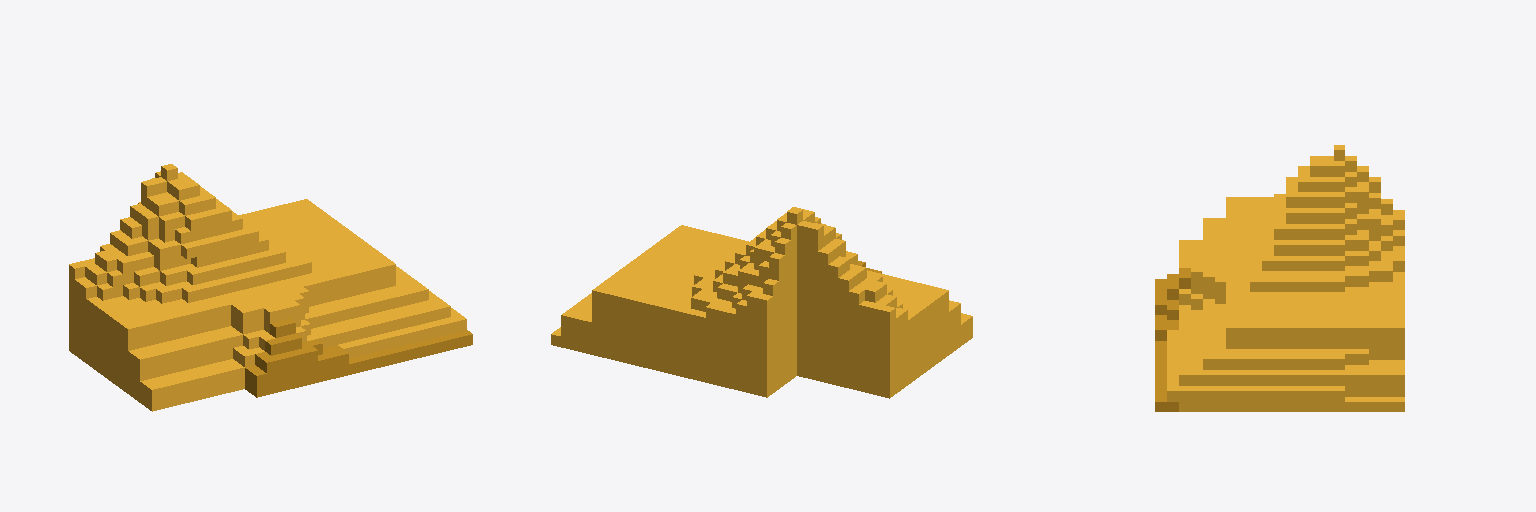
The picture shows the model from 3 angles: view 1: azimuth 30°, elevation 25°; view 2: azimuth 150°, elevation 25°; view 3: azimuth 270°, elevation 25°; orthographic projection.
Size of the model in its own units: 30 by 15 by 21.
Materials: 1 (1 with a texture image).